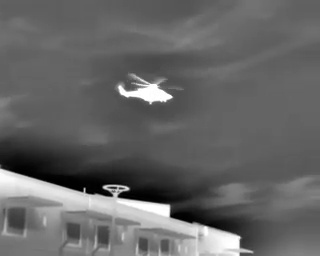HELICOPTER: (113, 68, 187, 113)
